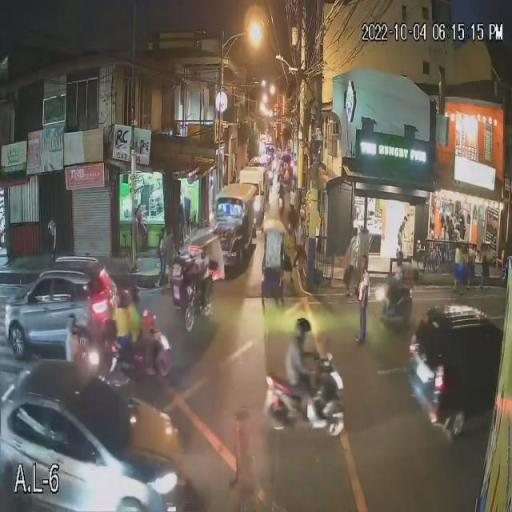helmet: (287, 316, 311, 343), (127, 284, 143, 311), (116, 290, 129, 312), (394, 252, 404, 269)
motorcycle: (261, 363, 344, 439), (100, 326, 179, 379), (376, 276, 414, 323), (278, 195, 283, 210)
rider: (286, 316, 319, 430), (127, 287, 146, 360), (114, 301, 130, 368), (391, 257, 406, 308), (279, 185, 284, 197)
